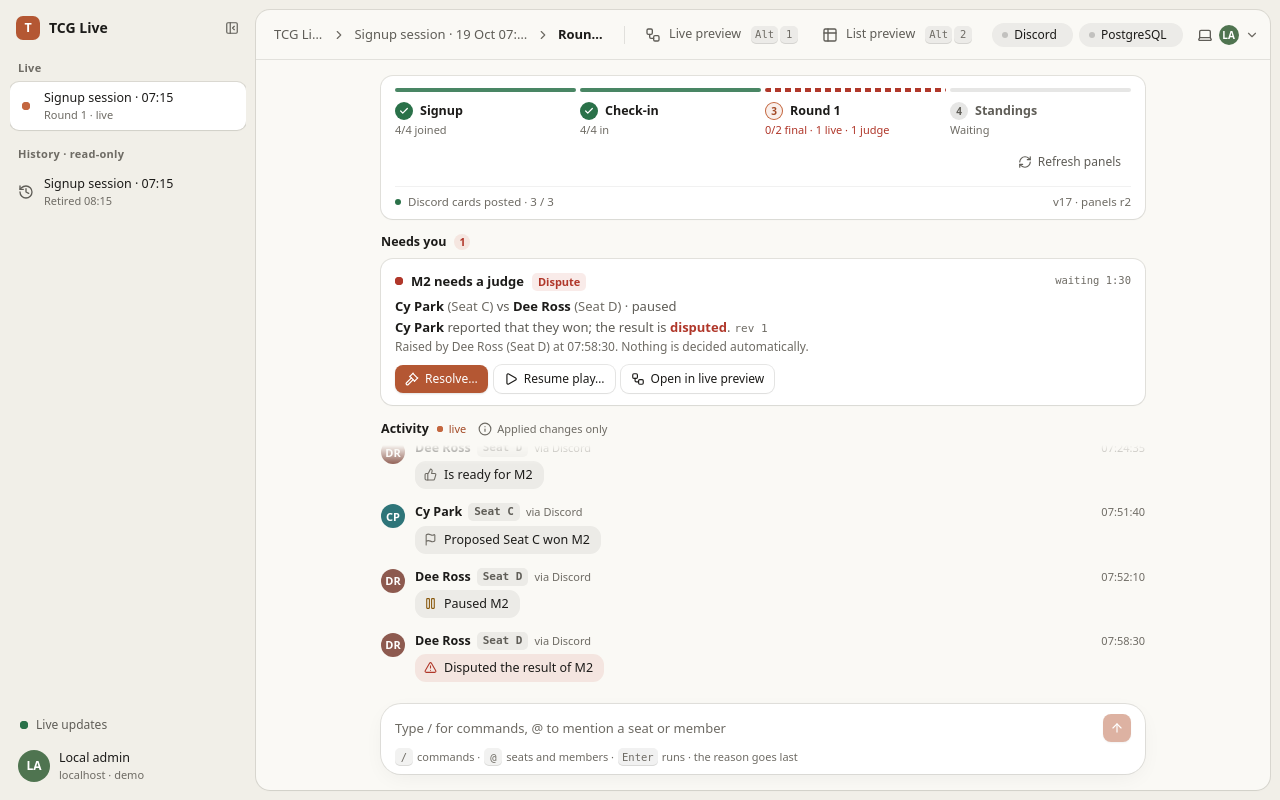
sidebar › lists the active event first with a live marker and retired events as history
(page scrolled)
Click the button "Signup session · 07:15 Retired 08:15": coordinates (128, 192) [10,168,246,216]
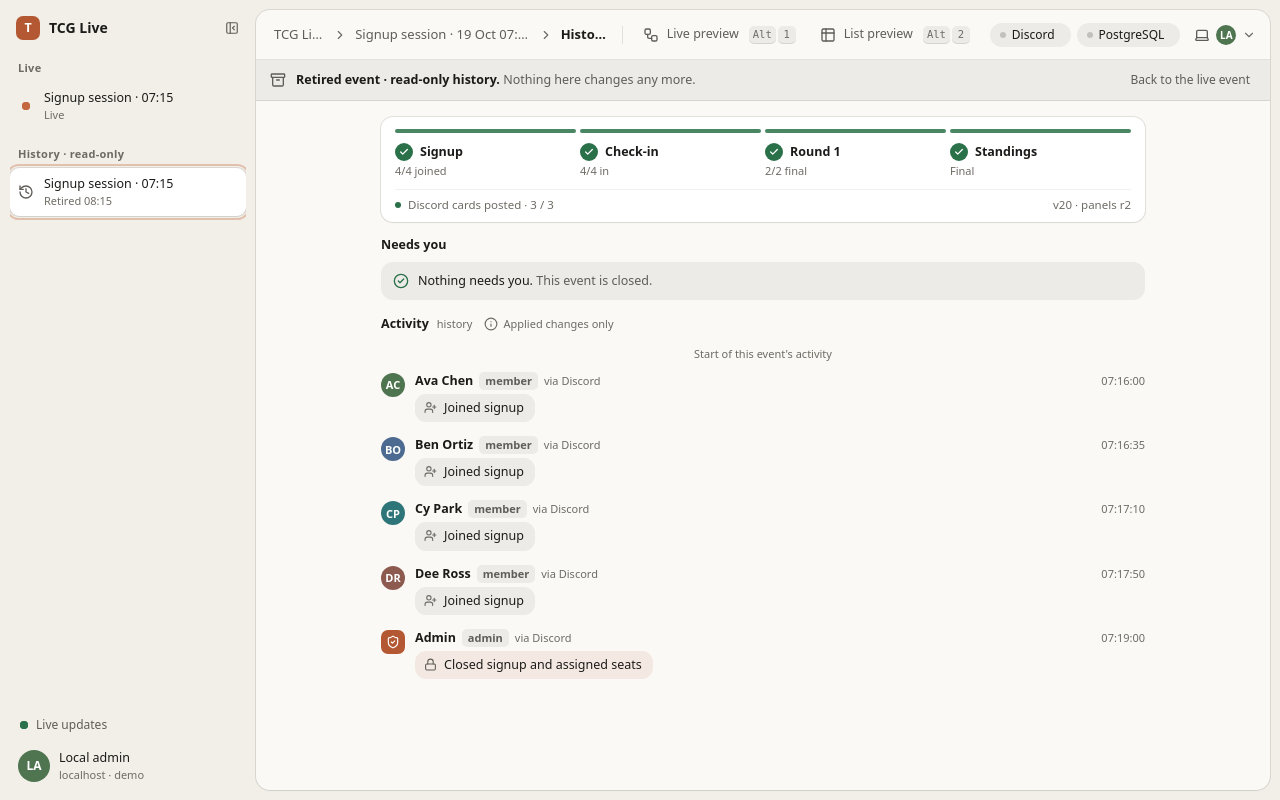
Result: the text "Retired event · read-only history." is shown at [296,71,500,88]
Result: the text "History" is shown at [557,23,612,46]
Click the button "Back to the live event": coordinates (1190, 80) [1120,66,1260,94]
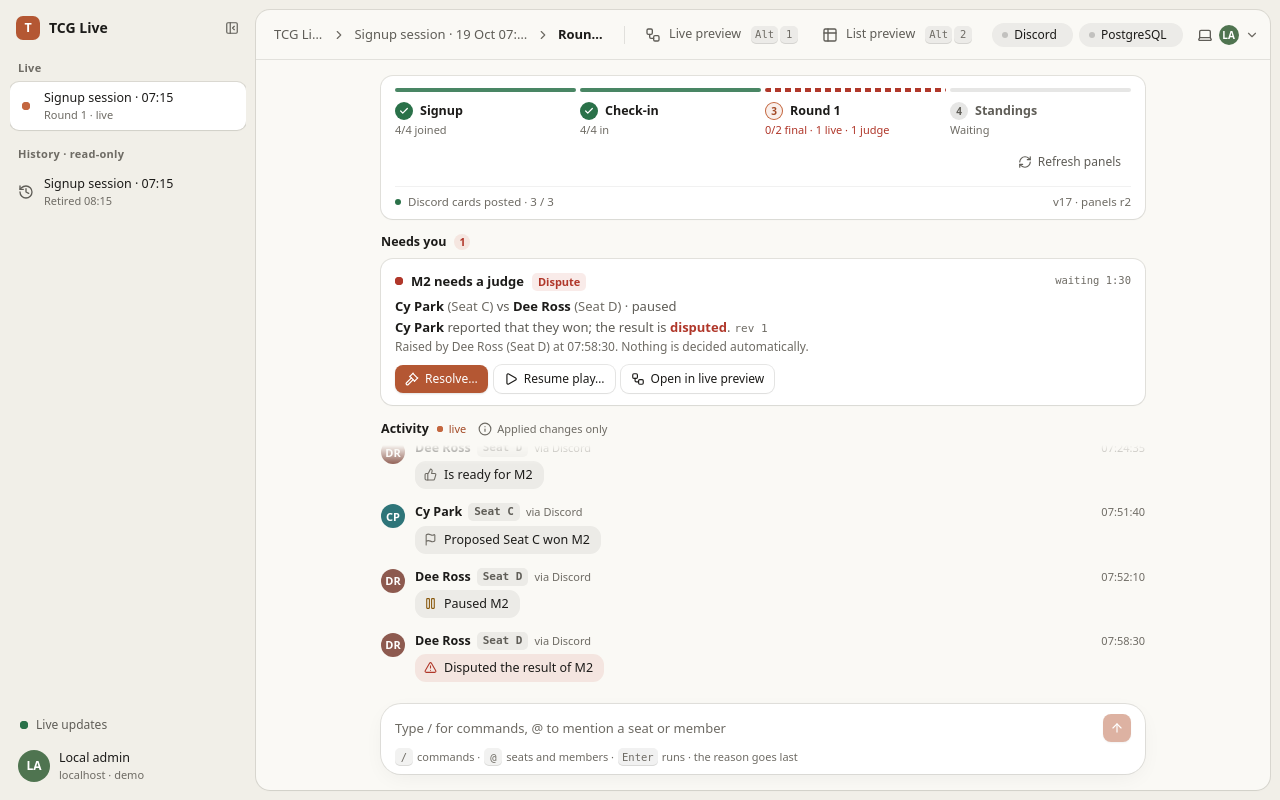
Result: the text "Retired event · read-only history." is gone
Click the button named "Collapse sidebar": coordinates (232, 28) [218,14,246,42]
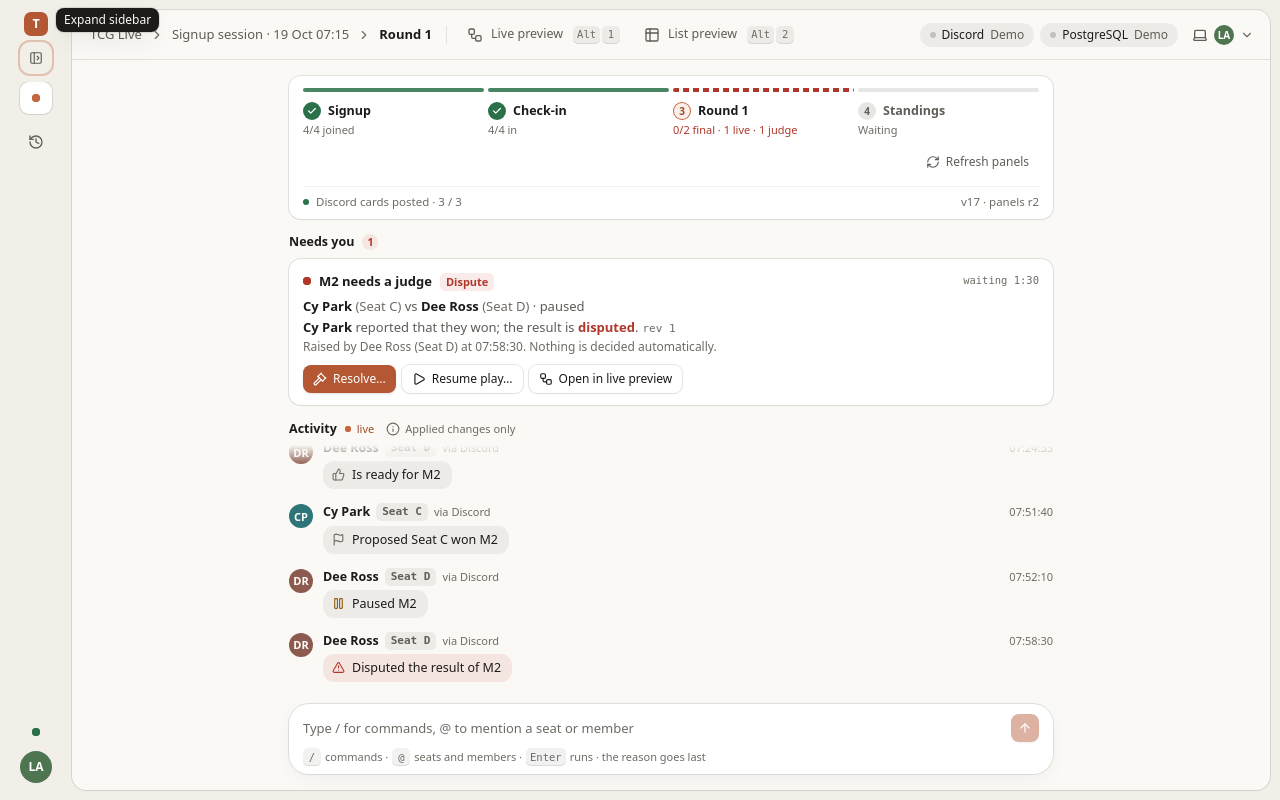
Result: the button named "Expand sidebar" is collapsed at [22,44,50,72]
